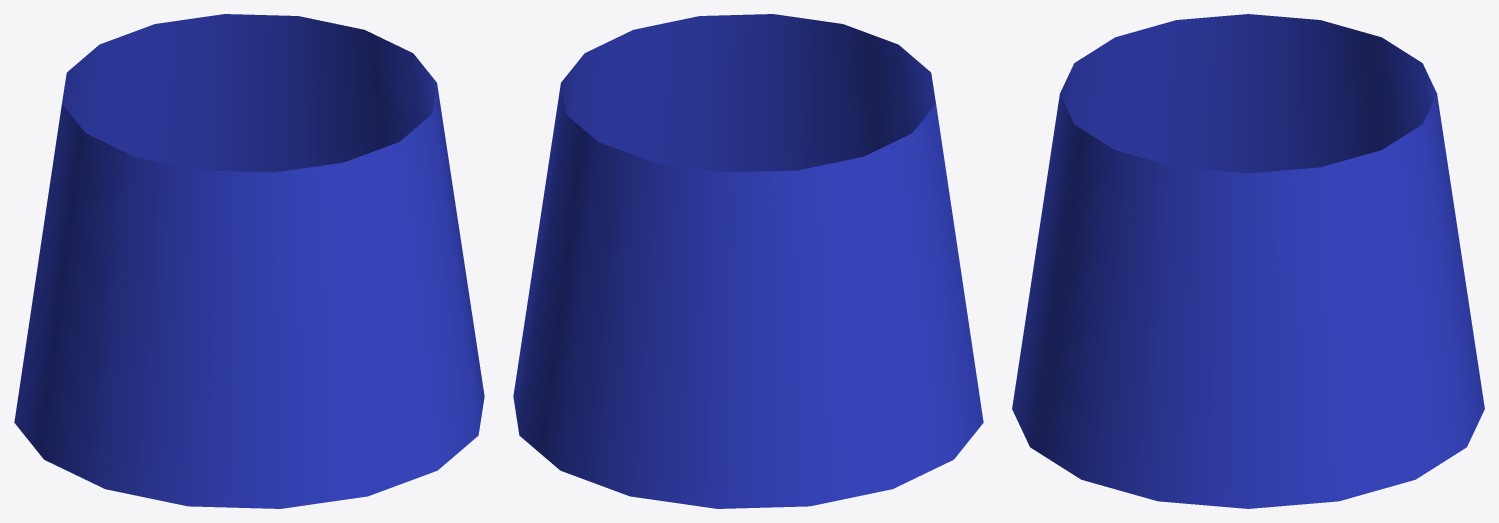
Rendered from plasma.fbx.
3 renders of one model, left to right at view 1: azimuth 30°, elevation 25°; view 2: azimuth 150°, elevation 25°; view 3: azimuth 270°, elevation 25°, orthographic.
Visible parts, largest first — view 1: trampoline_plasma_001; view 2: trampoline_plasma_001; view 3: trampoline_plasma_001.
Part boxes in pixels (bbox=[...]): trampoline_plasma_001: bbox=[14, 14, 484, 508]; trampoline_plasma_001: bbox=[513, 14, 983, 508]; trampoline_plasma_001: bbox=[1012, 14, 1484, 508].
Size of the model in its own units: 110 by 81.05 by 110.
